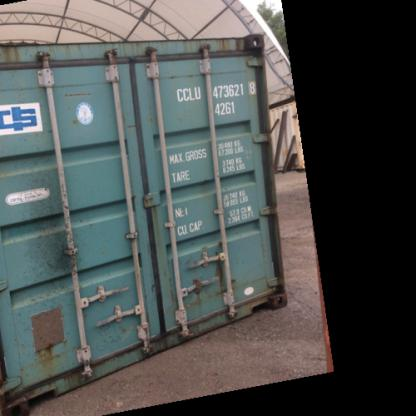Damage: (26, 164, 78, 275), (23, 280, 77, 354), (176, 268, 228, 317), (89, 321, 153, 358)
